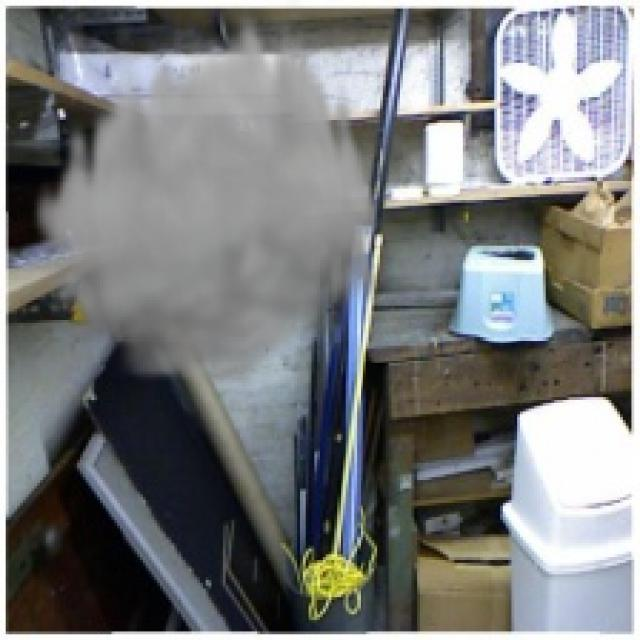Smoke: (28, 0, 383, 395)
